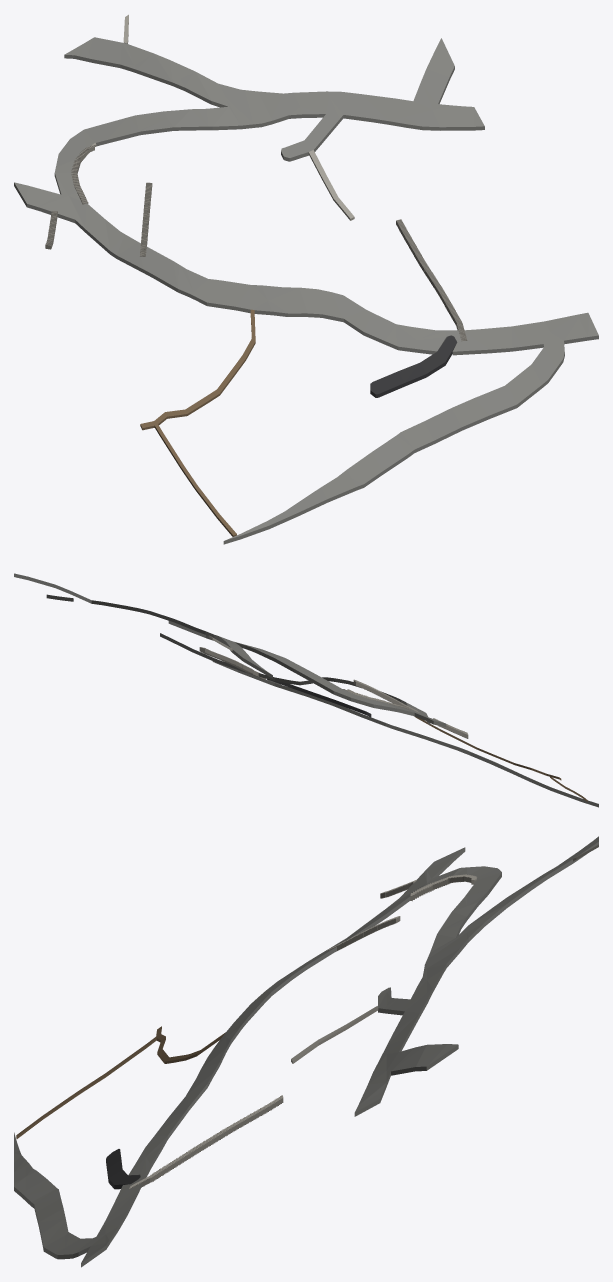
3 views of the same model, one above another, from view 1: azimuth 30°, elevation 25°; view 2: azimuth 150°, elevation 25°; view 3: azimuth 270°, elevation 25° (orthographic). The views are drawn at different scales.
Bounding box in the file's own units: 147 × 104 × 146.
